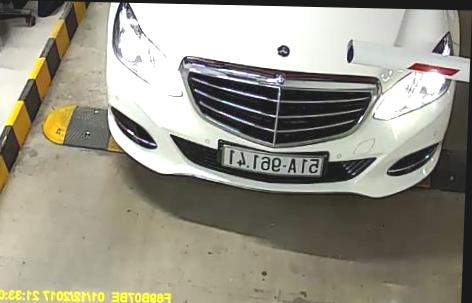License_Plate: (218, 147, 327, 175)
